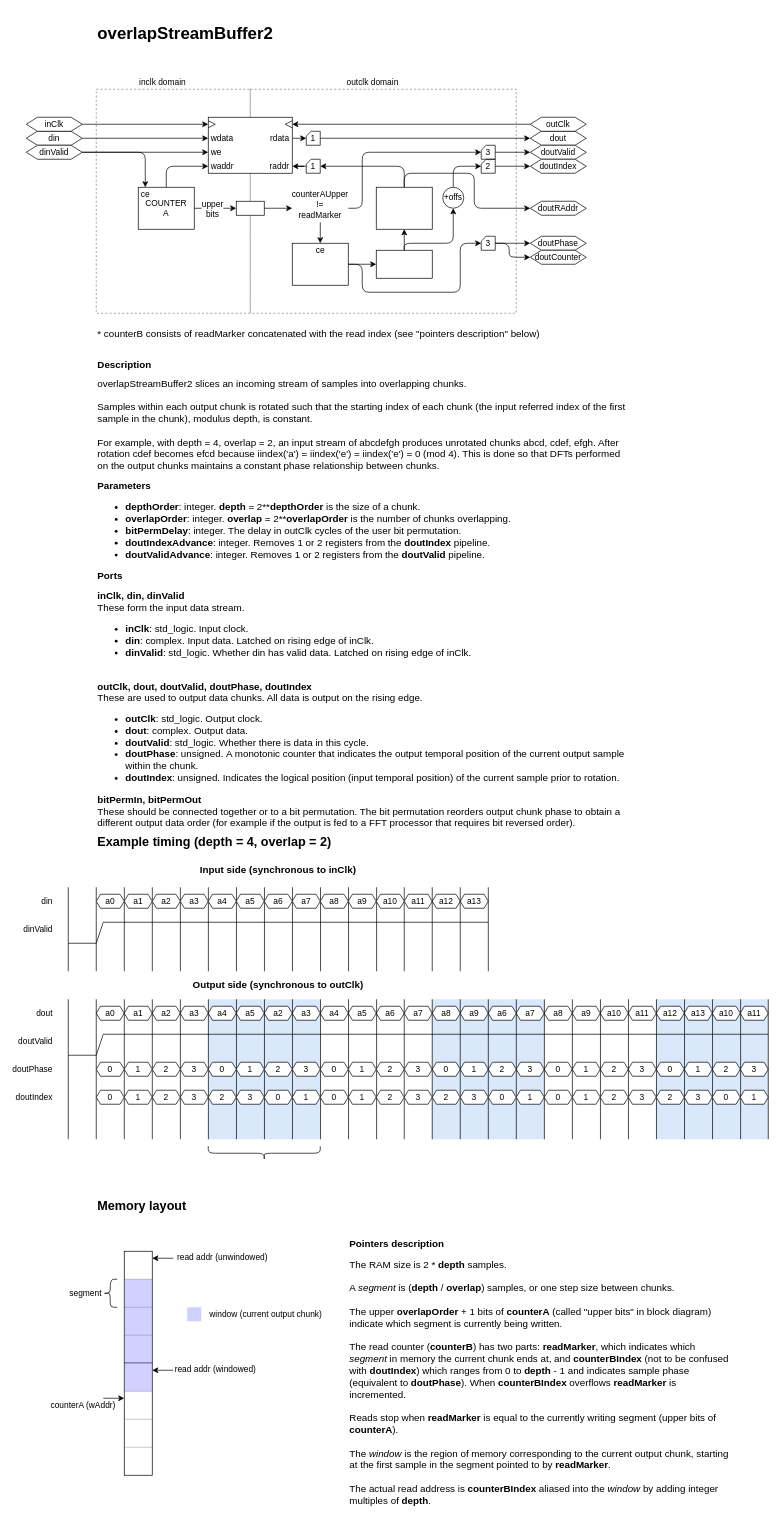
This 781x1519 diagram has some shape labels left out. Here are the shapes that lost their labels. From the top down, the box of each, then its label:
(208, 117, 292, 173): RAM
(236, 201, 264, 215): CDC
(376, 187, 432, 229): MOVE INTO WINDOW
(292, 243, 348, 285): COUNTER B*
(376, 250, 432, 278): BIT PERMUTE
(208, 1146, 320, 1160): chunk
